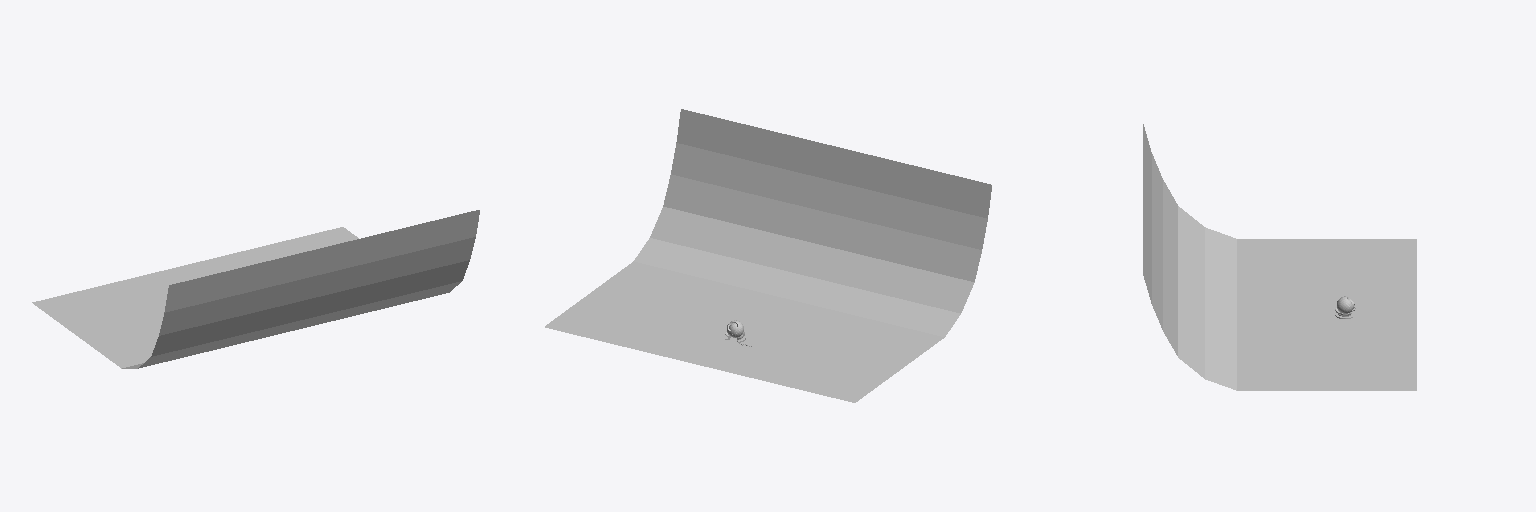
The model's file is testObj.obj.
3 views of the same model, side by side, from view 1: azimuth 30°, elevation 25°; view 2: azimuth 150°, elevation 25°; view 3: azimuth 270°, elevation 25° (orthographic).
Visible parts, largest first — view 1: BackGroundMat; view 2: BackGroundMat; view 3: BackGroundMat.
Part boxes in pixels (bbox=[...]): BackGroundMat: bbox=[32, 210, 479, 368]; BackGroundMat: bbox=[545, 109, 991, 402]; BackGroundMat: bbox=[1143, 124, 1416, 390].
Bounding box in the file's own units: 18.75 × 6.78 × 14.32.